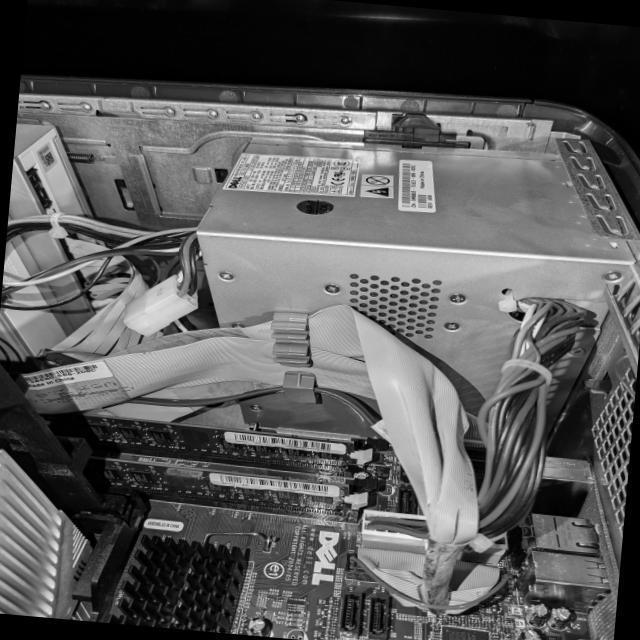CPU_Fan: (0, 443, 103, 621)
Mainboard: (39, 413, 628, 640)
PSU: (180, 124, 639, 458)
RAM: (37, 409, 354, 468), (84, 455, 350, 513)
